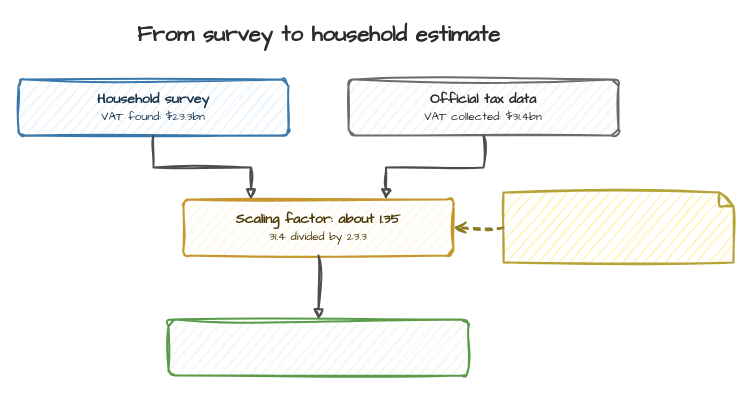
Some shapes in this 751 by 393 pixel diagram are drawn without their labels. The shapes that lost their labels are listed below. From the top down, each one's centre as x and y in pixels, then its label:
point 618,227: Assumes every household under-reports by the same share
point 318,347: One household reports $310, counted at about $420
